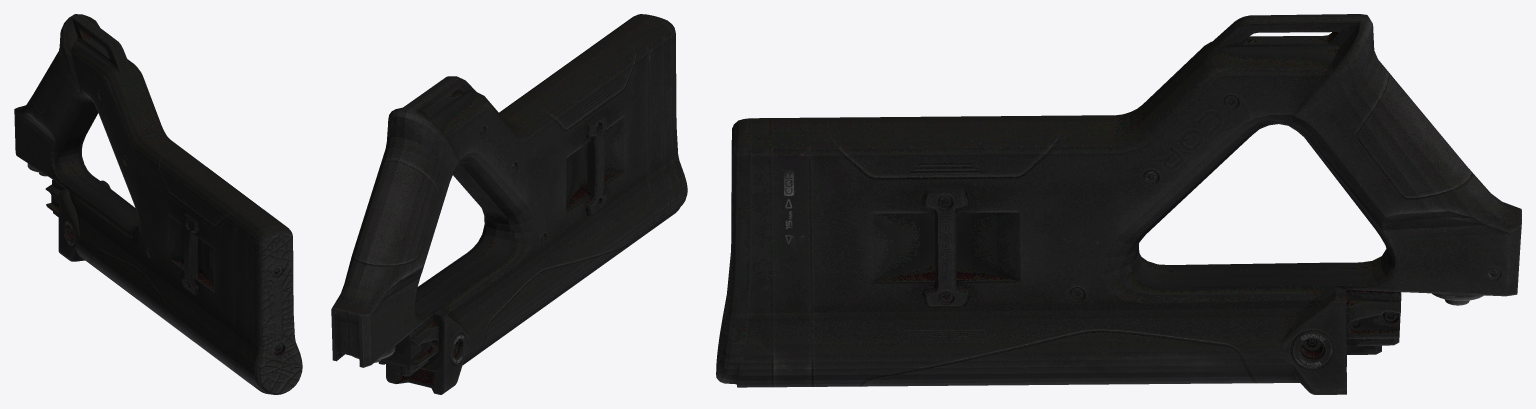
The picture shows the model from 3 angles, left to right: view 1: azimuth 30°, elevation 25°; view 2: azimuth 150°, elevation 25°; view 3: azimuth 270°, elevation 25°; orthographic projection. The views are drawn at different scales.
Parts seen in each view (by area): view 1: TW_619b69037b9de8162902673e_PZ_Import; view 2: TW_619b69037b9de8162902673e_PZ_Import; view 3: TW_619b69037b9de8162902673e_PZ_Import.
Part boxes in pixels (box(x1,y1,x2,y2)): TW_619b69037b9de8162902673e_PZ_Import: box(14, 14, 302, 394); TW_619b69037b9de8162902673e_PZ_Import: box(331, 14, 687, 394); TW_619b69037b9de8162902673e_PZ_Import: box(716, 14, 1521, 394).
Size of the model in its own units: 0.0206 by 0.1877 by 0.0943.
1 material, 1 textured.
